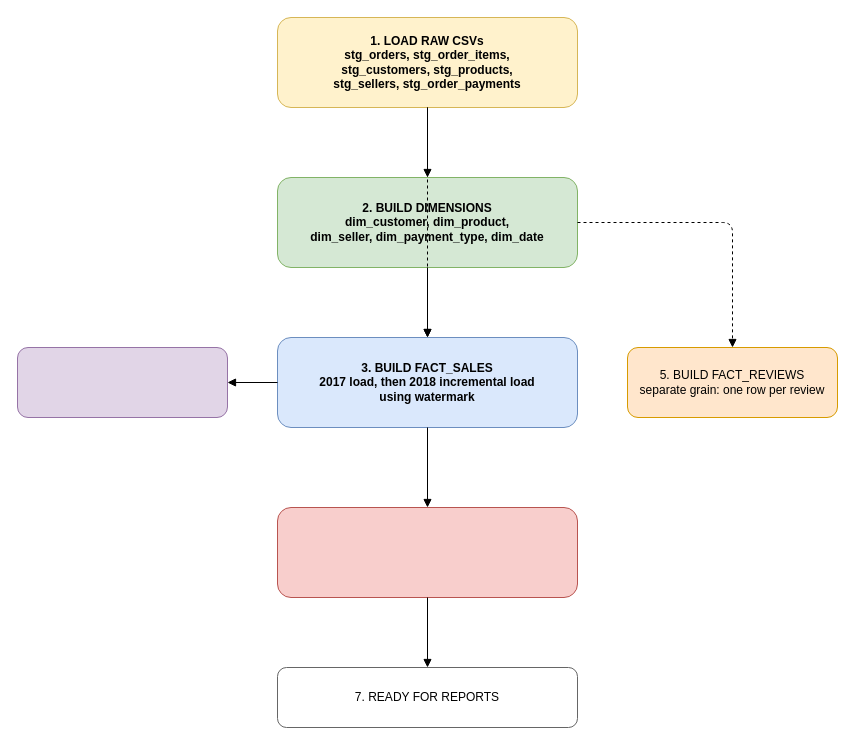
The diagram is 855 pixels wide and 745 high, and some of its shapes have lost their labels. The centre of each missing label's shape, as x and y in pixels:
"4. UPDATE WATERMARK etl_watermark.last_purchase_ts" belongs at point 122,382.
"6. CHECKS DQ rules, bad records, fact totals vs source totals" belongs at point 427,552.
